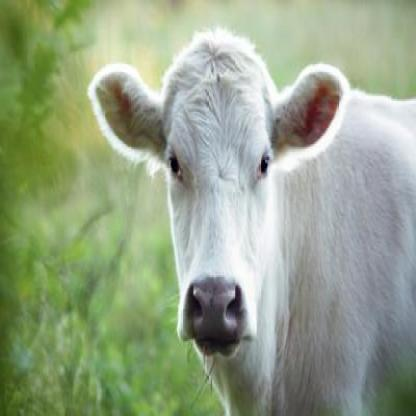lower: (204, 345, 232, 352)
mouth: (179, 275, 248, 358)
upper: (207, 300, 223, 320)
